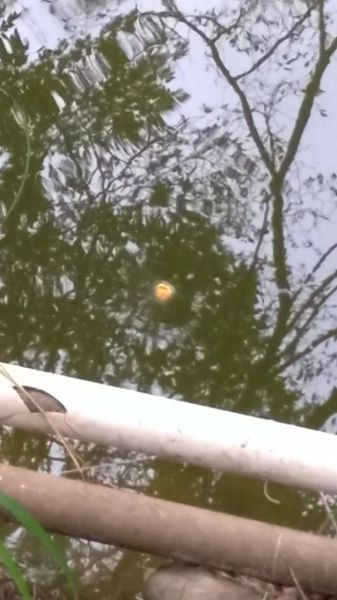eggs: (151, 278, 179, 305)
